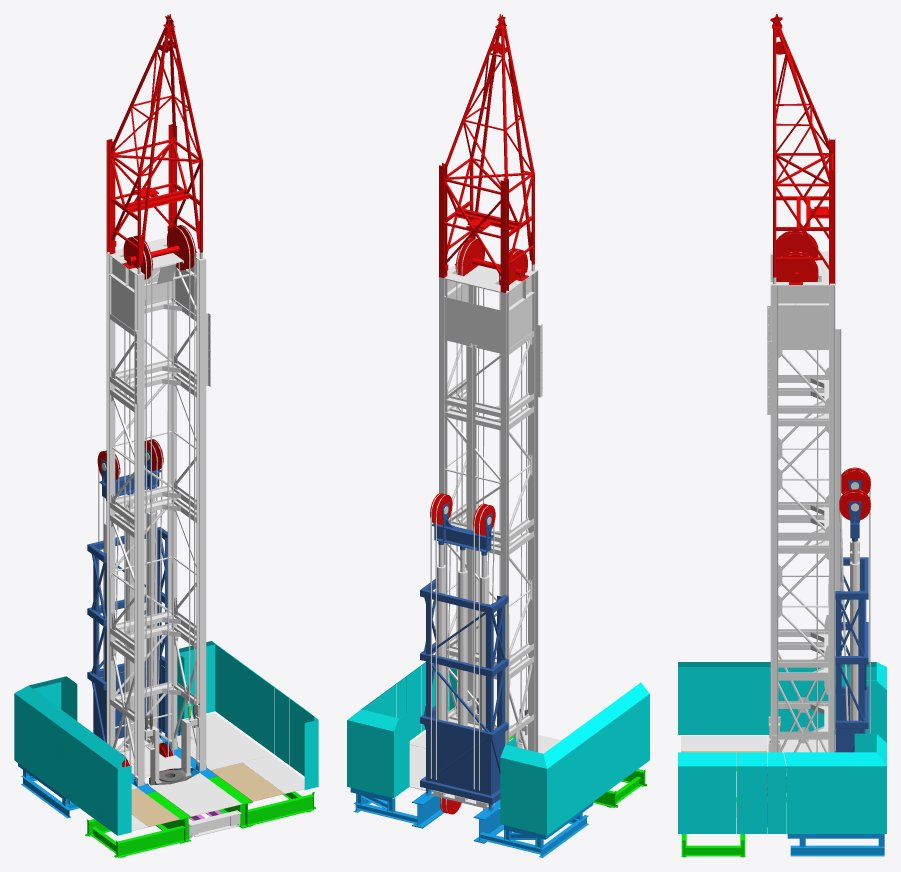
3 renders of one model, left to right at view 1: azimuth 30°, elevation 25°; view 2: azimuth 150°, elevation 25°; view 3: azimuth 270°, elevation 25°, orthographic.
Visible parts, largest first — view 1: Combine1, Boss_Extrude3, Sweep1, Stock_P1684_Derrick_15, Stock_P1684_Derrick_1, Stock_P1684_Derrick_10, Boss_Extrude1, Stock_P1684_Derrick_11, NONE, Stock_P1684_Derrick_36, Stock_P1684_Derrick_13, Stock_P1684_Derrick_12 (+19 smaller); view 2: Combine1, Boss_Extrude3, Sweep1, Boss_Extrude1, Stock_P1684_Derrick_15, Stock_P1684_Derrick_1, Stock_P1684_Derrick_10, Stock_P1684_Derrick_33, Stock_P1684_Derrick_31, Stock_P1684_Derrick_36, Stock_P1684_Derrick_14, Stock_P1684_Derrick_11 (+18 smaller); view 3: Combine1, Boss_Extrude3, Boss_Extrude1, Stock_P1684_Derrick_1, Stock_P1684_Derrick_15, Extrude_Thin8, Stock_P1684_Derrick_32, Stock_P1684_Derrick_10, NONE, Stock_P1684_Derrick_16, Sweep1, Extrude_Thin9 (+18 smaller).
Boxes of the visible parts, box(x1,y1,x2,y2) form: Combine1: box(14, 237, 197, 835); Boss_Extrude3: box(106, 187, 318, 789); Sweep1: box(98, 225, 195, 769); Stock_P1684_Derrick_15: box(106, 57, 315, 828); Stock_P1684_Derrick_1: box(97, 124, 206, 767); Stock_P1684_Derrick_10: box(110, 24, 271, 770); Boss_Extrude1: box(177, 641, 264, 747); Stock_P1684_Derrick_11: box(112, 80, 241, 816); NONE: box(106, 623, 196, 751); Stock_P1684_Derrick_36: box(104, 97, 198, 778); Stock_P1684_Derrick_13: box(85, 235, 210, 857); Stock_P1684_Derrick_12: box(110, 85, 210, 777); Combine1: box(454, 249, 649, 835); Boss_Extrude3: box(421, 219, 538, 732); Sweep1: box(430, 238, 527, 811); Boss_Extrude1: box(347, 275, 446, 797); Stock_P1684_Derrick_15: box(431, 56, 542, 808); Stock_P1684_Derrick_1: box(439, 163, 538, 676); Stock_P1684_Derrick_10: box(409, 24, 534, 790); Stock_P1684_Derrick_33: box(431, 404, 533, 794); Stock_P1684_Derrick_31: box(427, 158, 500, 732); Stock_P1684_Derrick_36: box(463, 123, 538, 752); Stock_P1684_Derrick_14: box(433, 233, 593, 857); Stock_P1684_Derrick_11: box(437, 78, 561, 753); Combine1: box(678, 231, 886, 796); Boss_Extrude3: box(678, 206, 835, 833); Boss_Extrude1: box(784, 733, 886, 833); Stock_P1684_Derrick_1: box(770, 169, 870, 674); Stock_P1684_Derrick_15: box(681, 387, 835, 857); Extrude_Thin8: box(736, 752, 766, 833); Stock_P1684_Derrick_32: box(776, 169, 864, 721); Stock_P1684_Derrick_10: box(768, 24, 859, 832); NONE: box(778, 667, 835, 772); Stock_P1684_Derrick_16: box(767, 352, 884, 856); Sweep1: box(781, 231, 870, 752); Extrude_Thin9: box(767, 752, 786, 833).
Size of the model in its own units: 7923 by 29595 by 7038.
